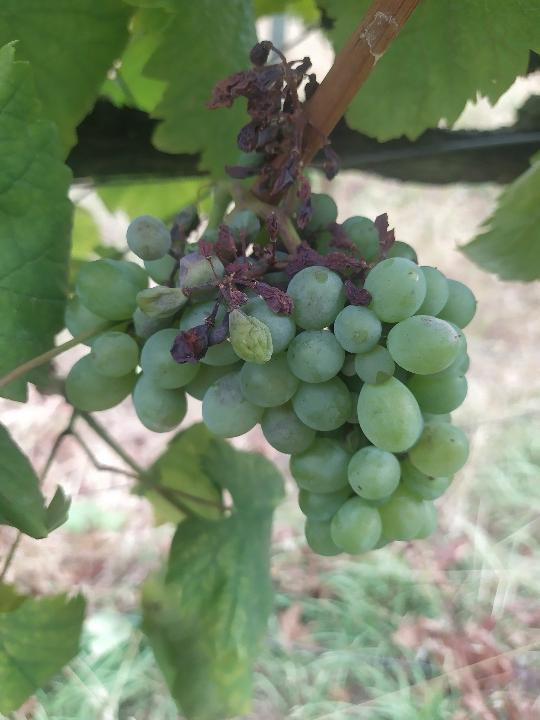grape: (63, 37, 480, 560)
